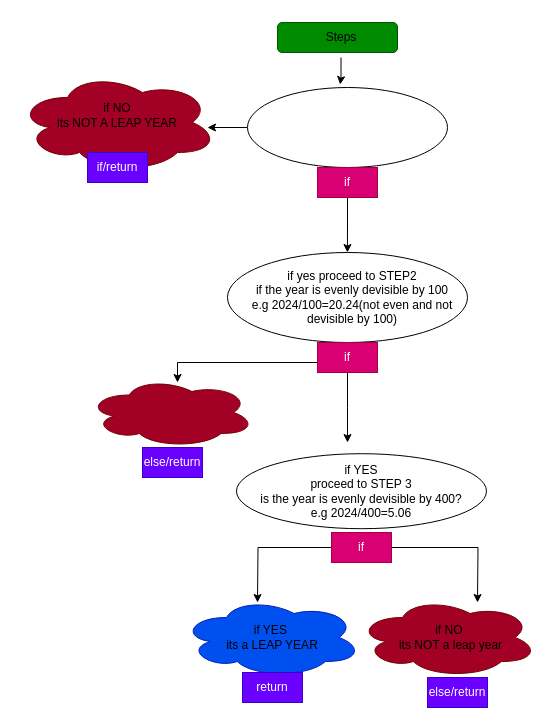
The diagram is 555 pixels wide and 725 high, and some of its shapes have lost their labels. Each missing label, with the box of its shape:
if NO it is A LEAP YEAR: (86, 376, 254, 448)
Step 1 if the year is evenly devisible by 4 e.g 2024/4=506: (246, 86, 448, 168)
